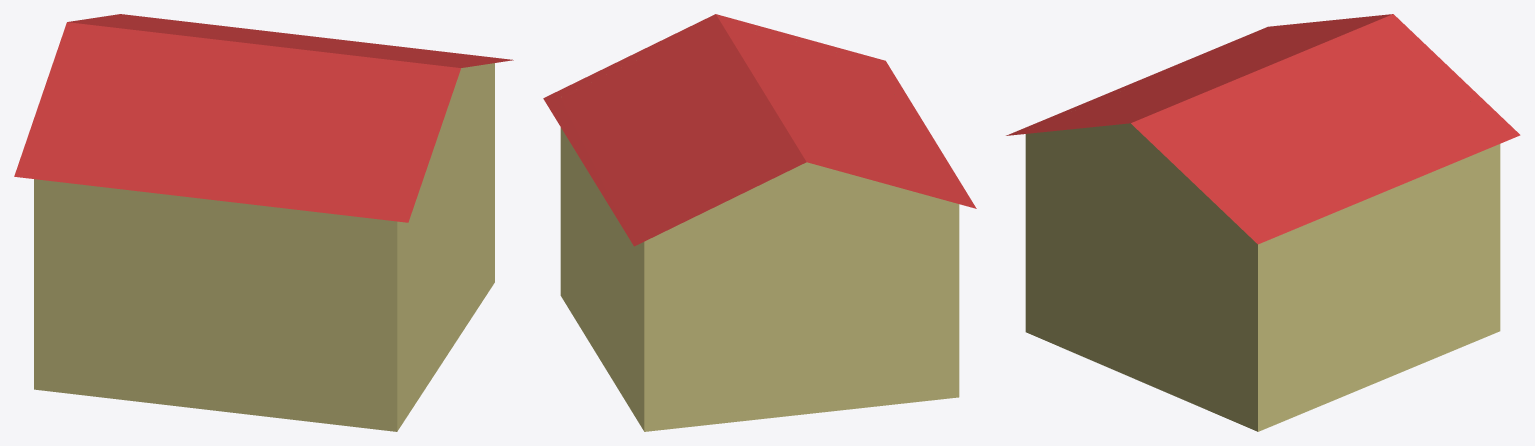
3 renders of one model, left to right at view 1: azimuth 30°, elevation 25°; view 2: azimuth 150°, elevation 25°; view 3: azimuth 270°, elevation 25°, orthographic. The views are drawn at different scales.
Size of the model in its own units: 17.74 by 17.74 by 9.98.
